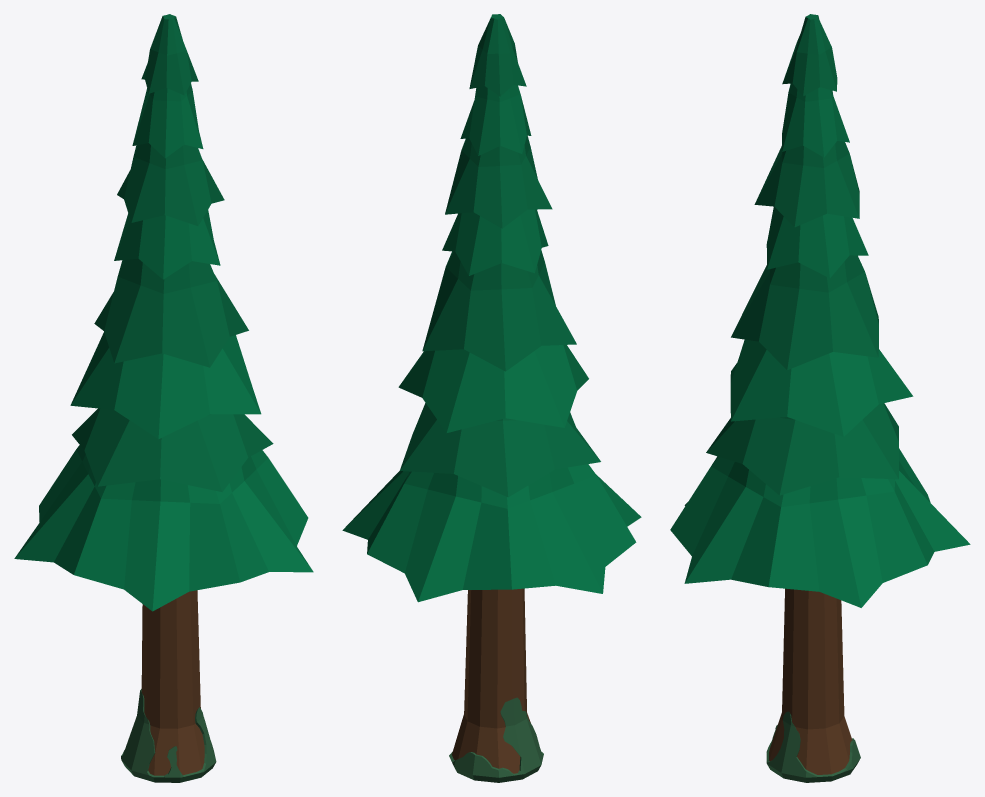
File: Tree2.fbx
3 renders of one model, left to right at view 1: azimuth 30°, elevation 25°; view 2: azimuth 150°, elevation 25°; view 3: azimuth 270°, elevation 25°, orthographic.
Parts seen in each view (by area): view 1: Cylinder.002; view 2: Cylinder.002; view 3: Cylinder.002.
Boxes of the visible parts, x1,y1,x2,y2 form: Cylinder.002: [14, 14, 313, 782]; Cylinder.002: [342, 14, 641, 782]; Cylinder.002: [670, 14, 970, 782].
Size of the model in its own units: 661 by 1822 by 660.
